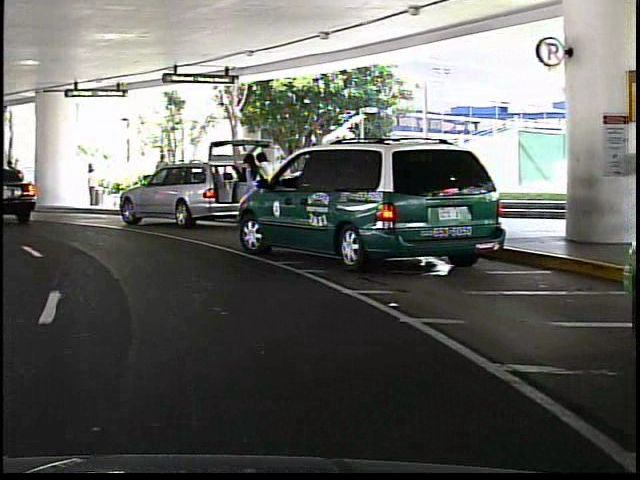person: (237, 148, 257, 226), (149, 148, 169, 204)
